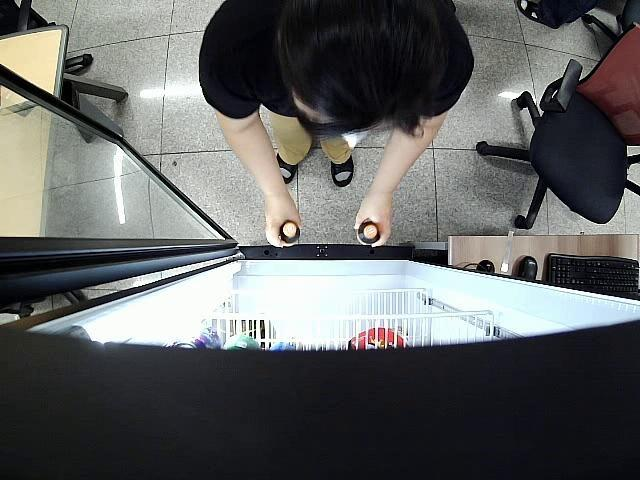17_vita500: (354, 220, 380, 246), (278, 220, 301, 247)
